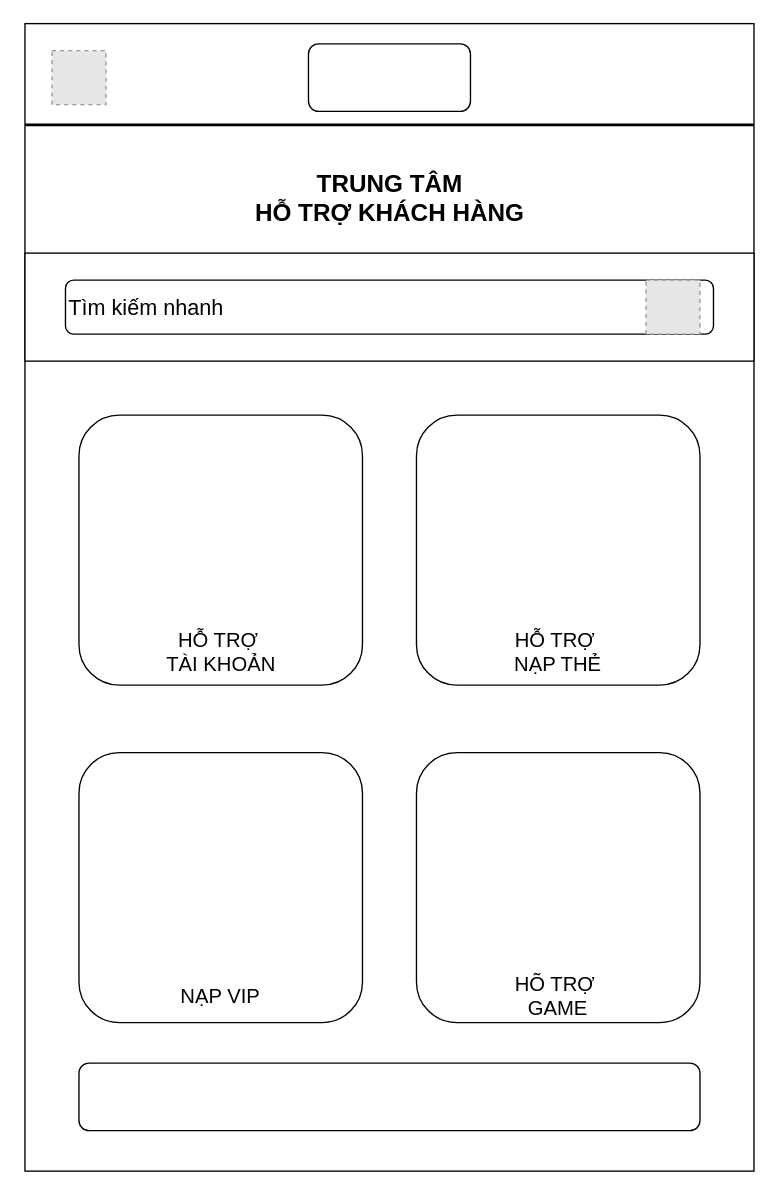
Image size: 778x1195. Some labels were removed from this diagram. Grey dashed boxes stand in for pictures. The box of each missing label's shape, as (x1, y1, x2, y2) in pixels:
LOGO: (307, 43, 470, 111)
THEO DÕI PHIEU HỖ TRỢ: (78, 1062, 700, 1131)
